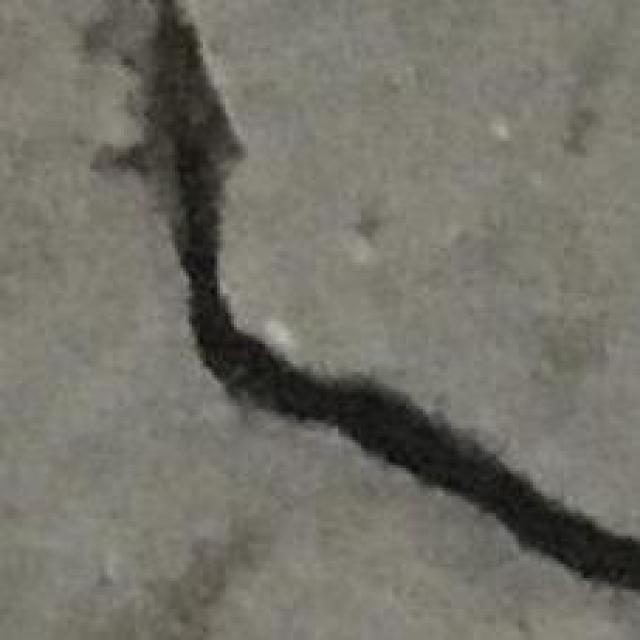Crack: (87, 0, 637, 589)
